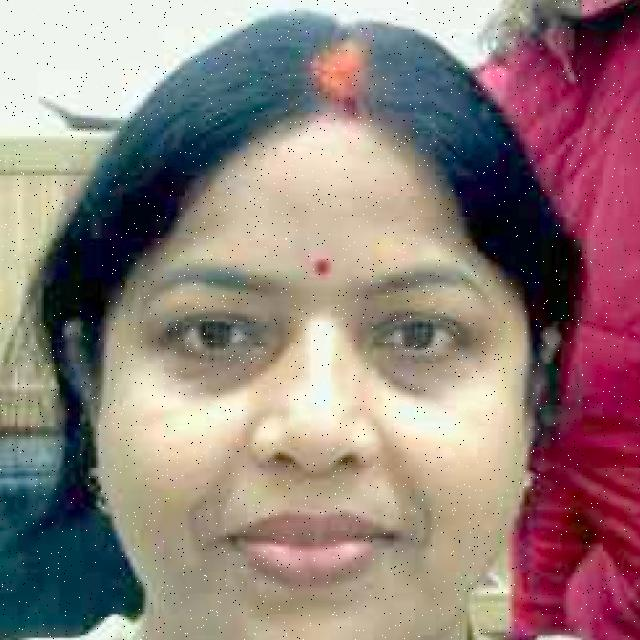puffy_eyes: (160, 321, 284, 397), (369, 355, 470, 393)
